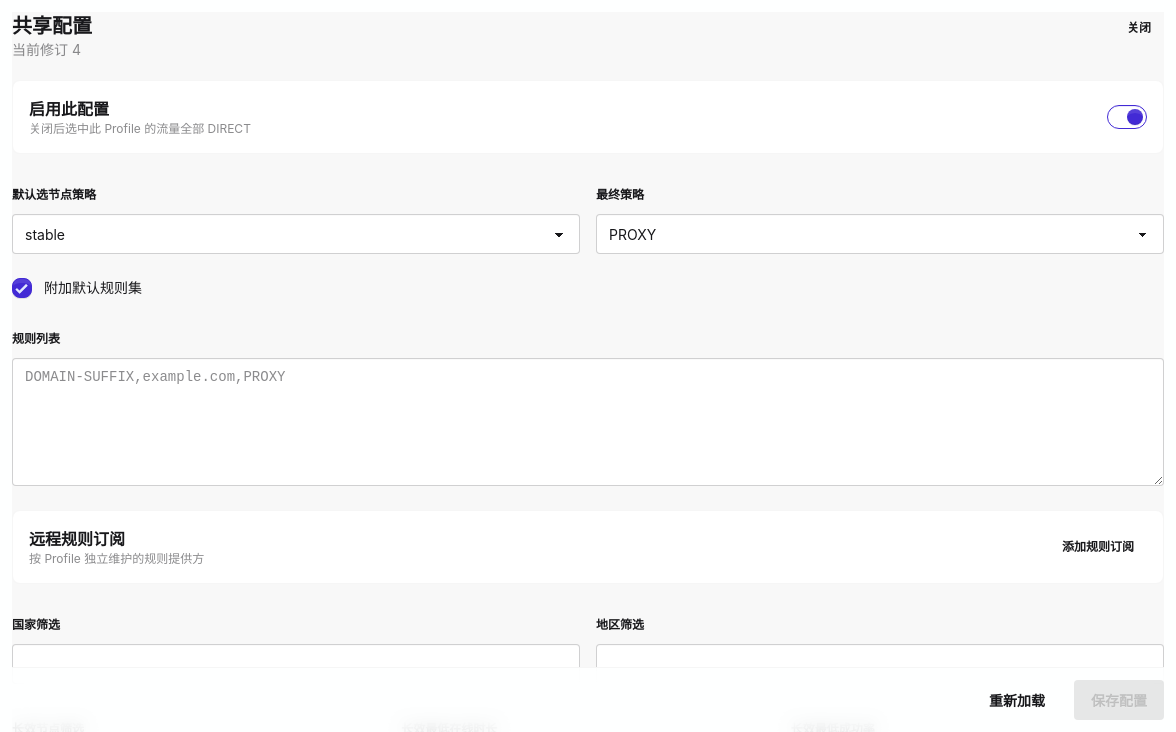
Test: keeps local input when the server reports a revision conflict
Click the checkbox labelled "启用此配置" at (1127, 117), box [1107, 105, 1147, 129]
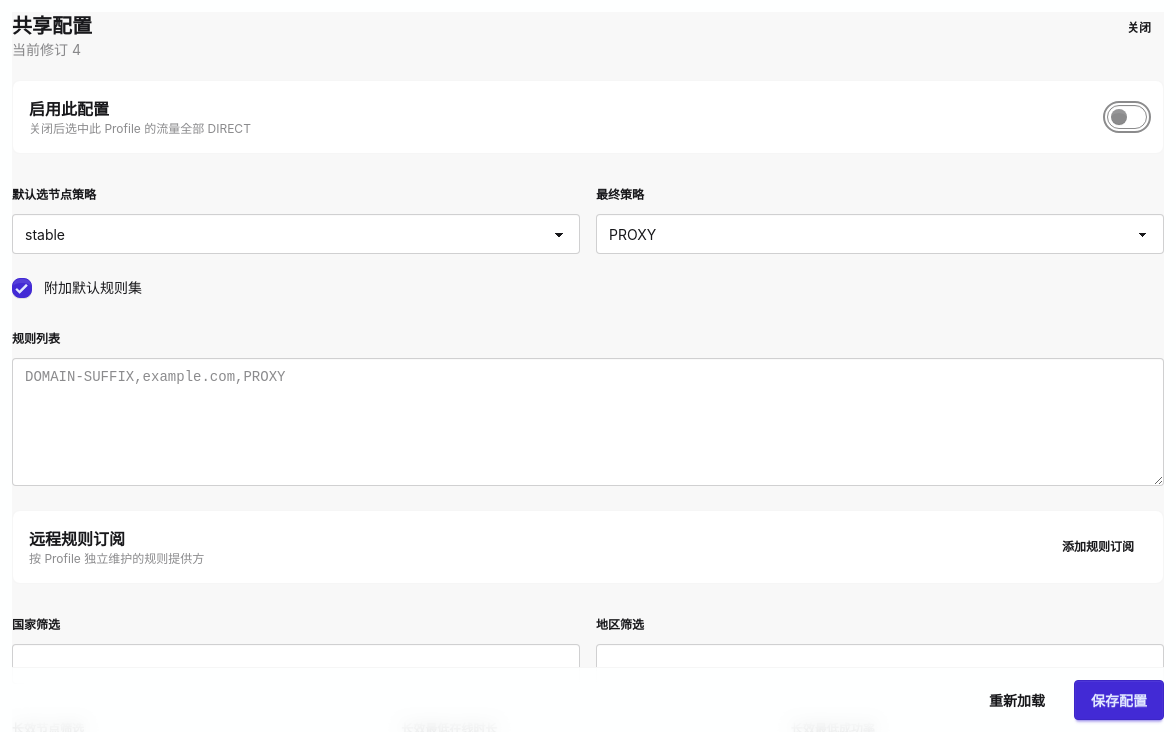
Click the button "保存配置" at (1119, 700), box [1074, 680, 1164, 720]
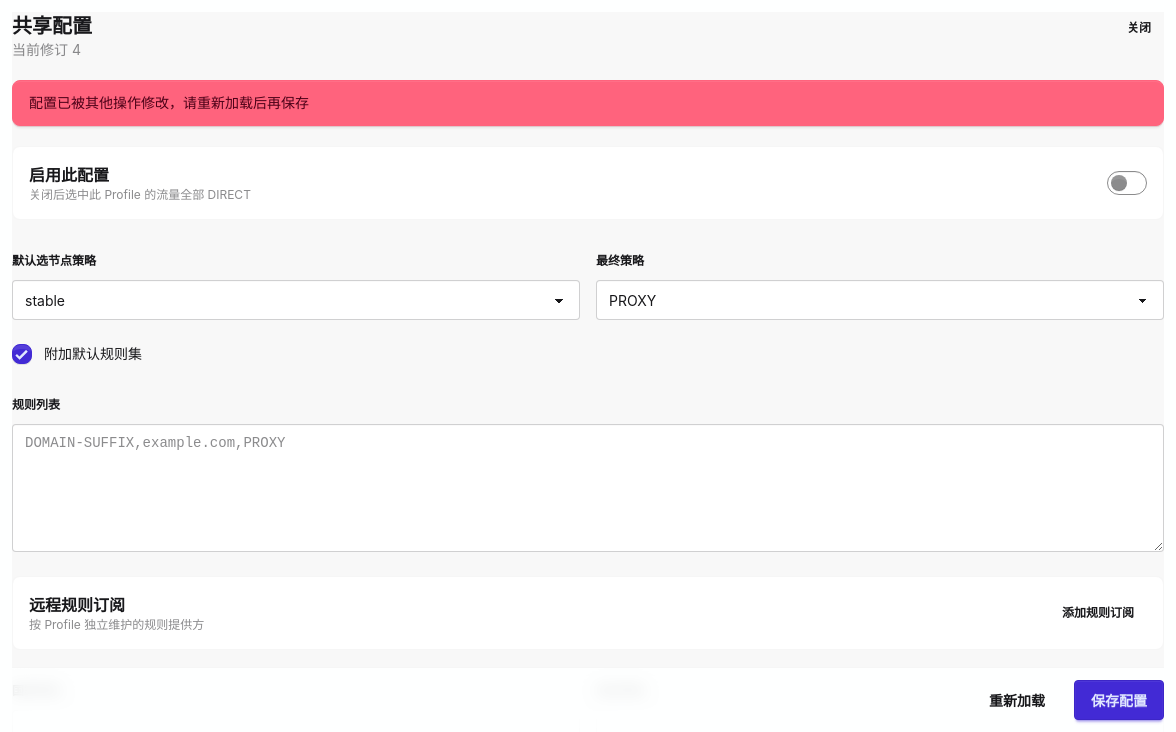
Expected: the checkbox labelled "启用此配置" is not checked, [1107, 171, 1147, 195]
Expected: the message shows "配置已被其他操作修改", [29, 94, 309, 111]
